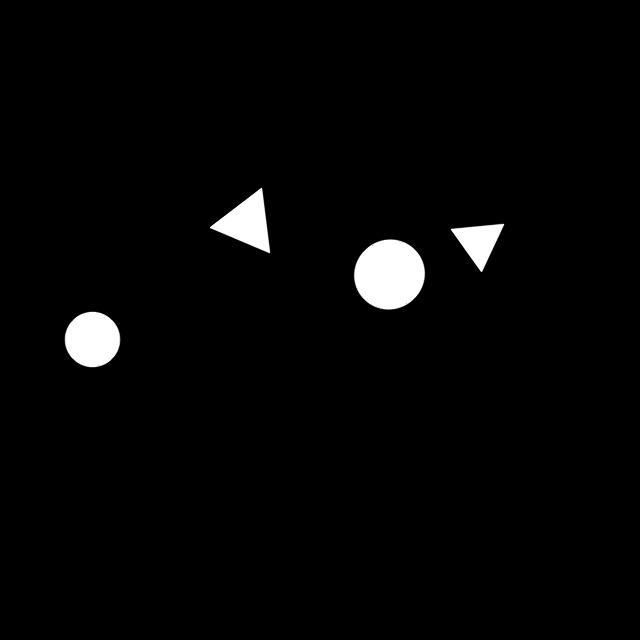Circle: (347, 221, 431, 321), (57, 299, 126, 382)
Triangle: (192, 176, 291, 270), (436, 212, 517, 279)
